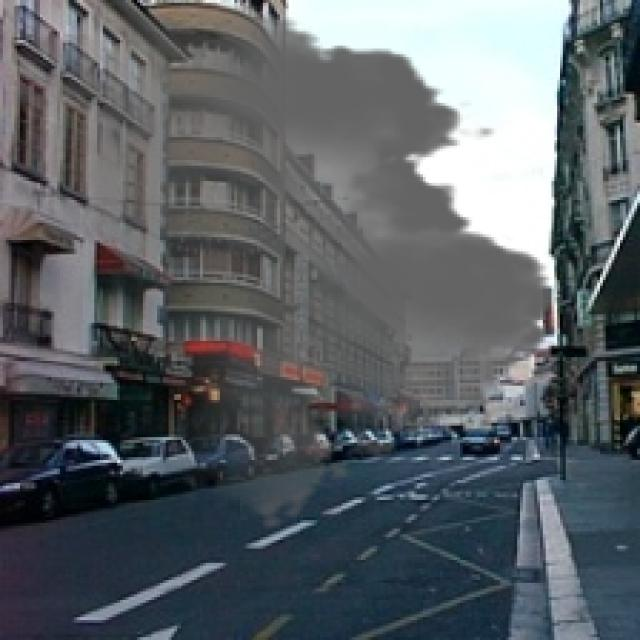smoke: (3, 3, 571, 531)
